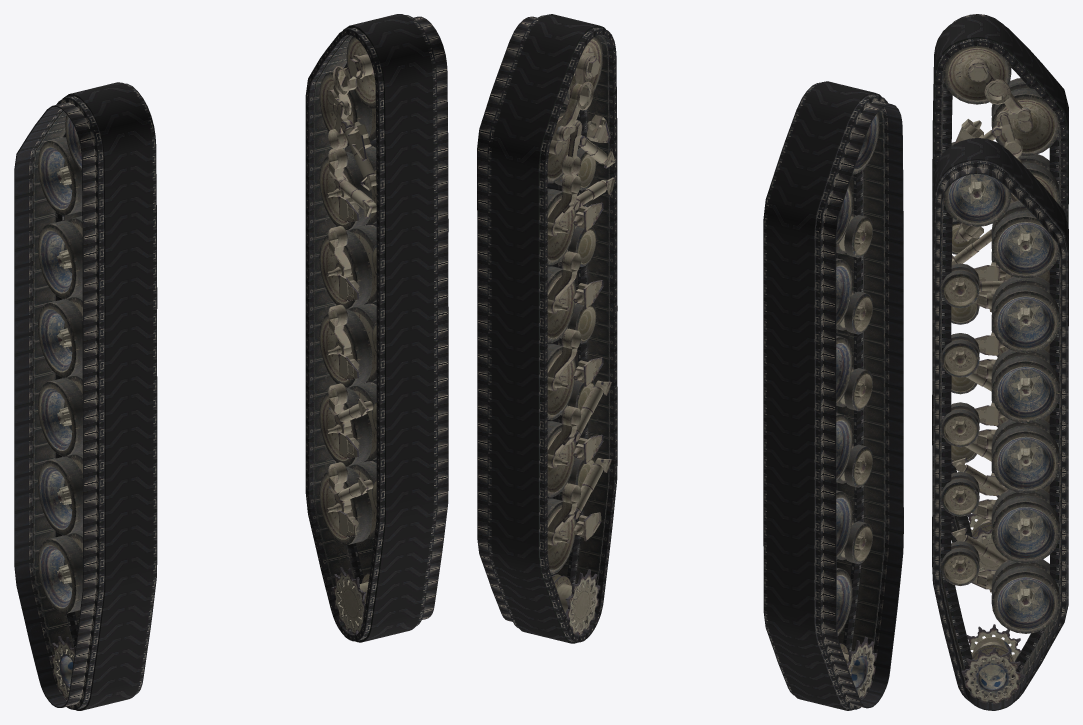
Rendered from Chassis.glb.
3 renders of one model, left to right at view 1: azimuth 30°, elevation 25°; view 2: azimuth 150°, elevation 25°; view 3: azimuth 270°, elevation 25°, orthographic. The views are drawn at different scales.
Visible parts, largest first — view 1: set_0_group_0, set_1_group_0, set_3_group_0, set_2_group_0; view 2: set_0_group_0, set_1_group_0, set_3_group_0, set_2_group_0; view 3: set_3_group_0, set_1_group_0, set_2_group_0, set_0_group_0.
Part boxes in pixels (<box>): set_0_group_0: <box>14,82,157,710</box>; set_1_group_0: <box>305,14,448,642</box>; set_3_group_0: <box>319,36,376,634</box>; set_2_group_0: <box>38,114,82,699</box>; set_0_group_0: <box>763,81,903,710</box>; set_1_group_0: <box>477,14,617,643</box>; set_3_group_0: <box>547,36,615,635</box>; set_2_group_0: <box>836,112,879,698</box>; set_3_group_0: <box>941,173,1059,703</box>; set_1_group_0: <box>932,138,1068,710</box>; set_2_group_0: <box>943,46,1059,571</box>; set_0_group_0: <box>932,14,1068,542</box>.
Bounding box in the file's own units: 3.62 × 5.86 × 1.32.
Materials: 4 (4 with a texture image).
